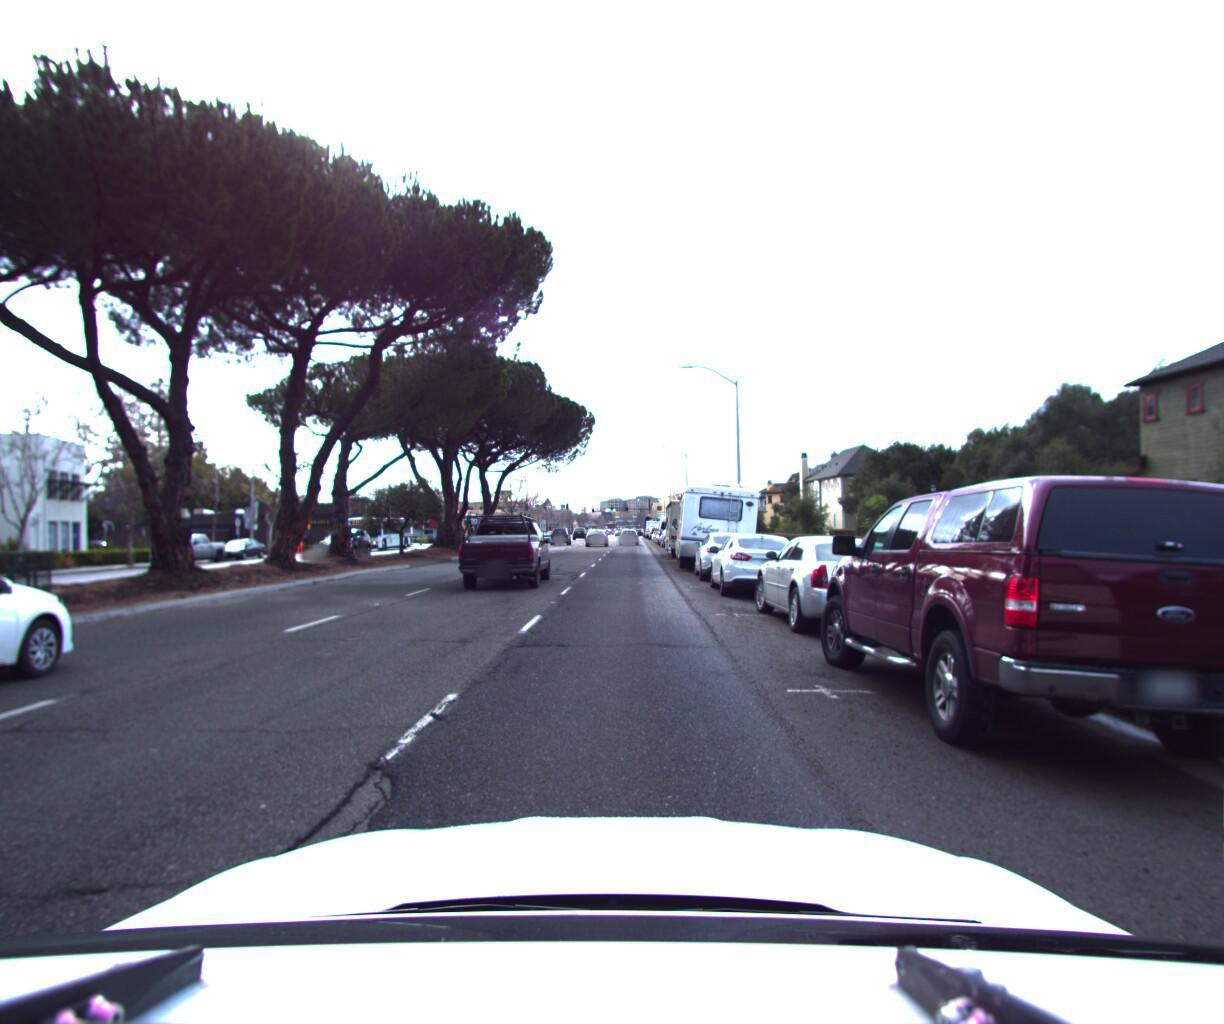bus: (342, 518, 417, 553)
car: (806, 460, 1224, 800), (0, 529, 108, 766), (747, 529, 936, 643), (455, 507, 549, 592), (707, 529, 811, 602), (693, 529, 766, 585), (150, 534, 234, 570), (315, 528, 376, 559), (218, 538, 273, 564), (582, 527, 607, 548), (550, 526, 574, 544), (618, 529, 639, 546)
other_vehicle: (675, 477, 762, 575), (665, 500, 727, 561)
